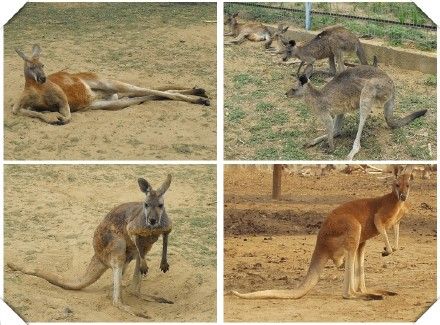kangaroo: (3, 172, 195, 319), (230, 165, 421, 303), (8, 44, 214, 136), (285, 69, 431, 161), (278, 26, 380, 80), (222, 10, 274, 51), (272, 24, 303, 54)
